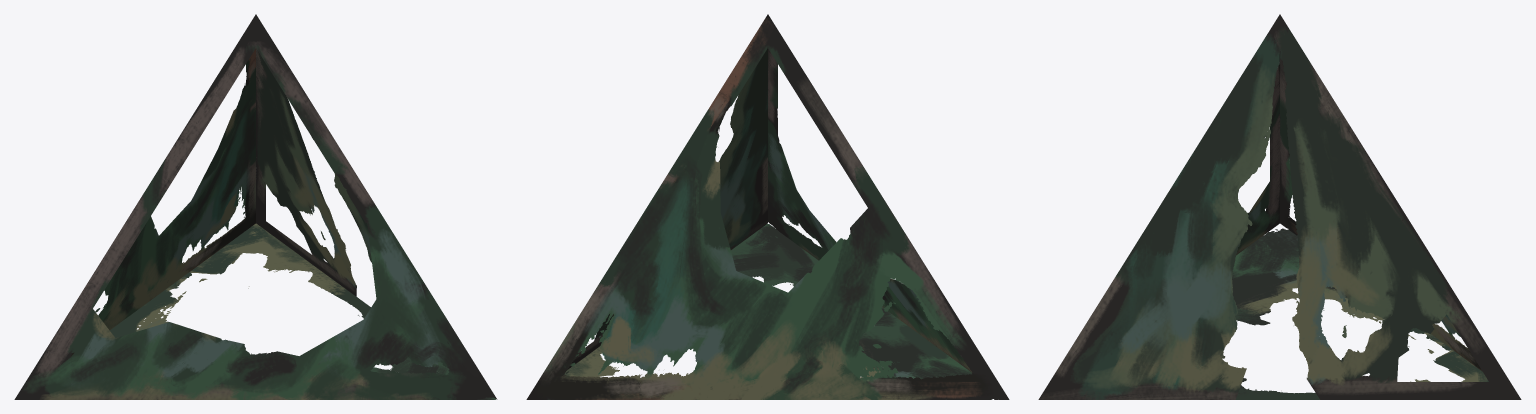
File: Tent02.fbx
3 renders of one model, left to right at view 1: azimuth 30°, elevation 25°; view 2: azimuth 150°, elevation 25°; view 3: azimuth 270°, elevation 25°, orthographic.
Visible parts, largest first — view 1: Tent_broken02; view 2: Tent_broken02; view 3: Tent_broken02.
Boxes of the visible parts, x1=… form: Tent_broken02: x1=14, y1=14, x2=497, y2=399; Tent_broken02: x1=526, y1=14, x2=1009, y2=399; Tent_broken02: x1=1038, y1=14, x2=1521, y2=399.
Size of the model in its own units: 1.43 by 1.23 by 1.65.
1 material, 1 textured.
